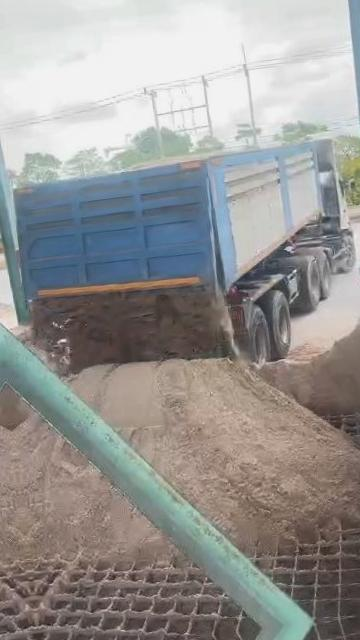sand: (71, 359, 360, 551), (12, 415, 172, 558), (31, 287, 232, 372), (261, 305, 360, 415), (122, 148, 237, 171), (14, 328, 56, 371), (5, 383, 30, 430)
